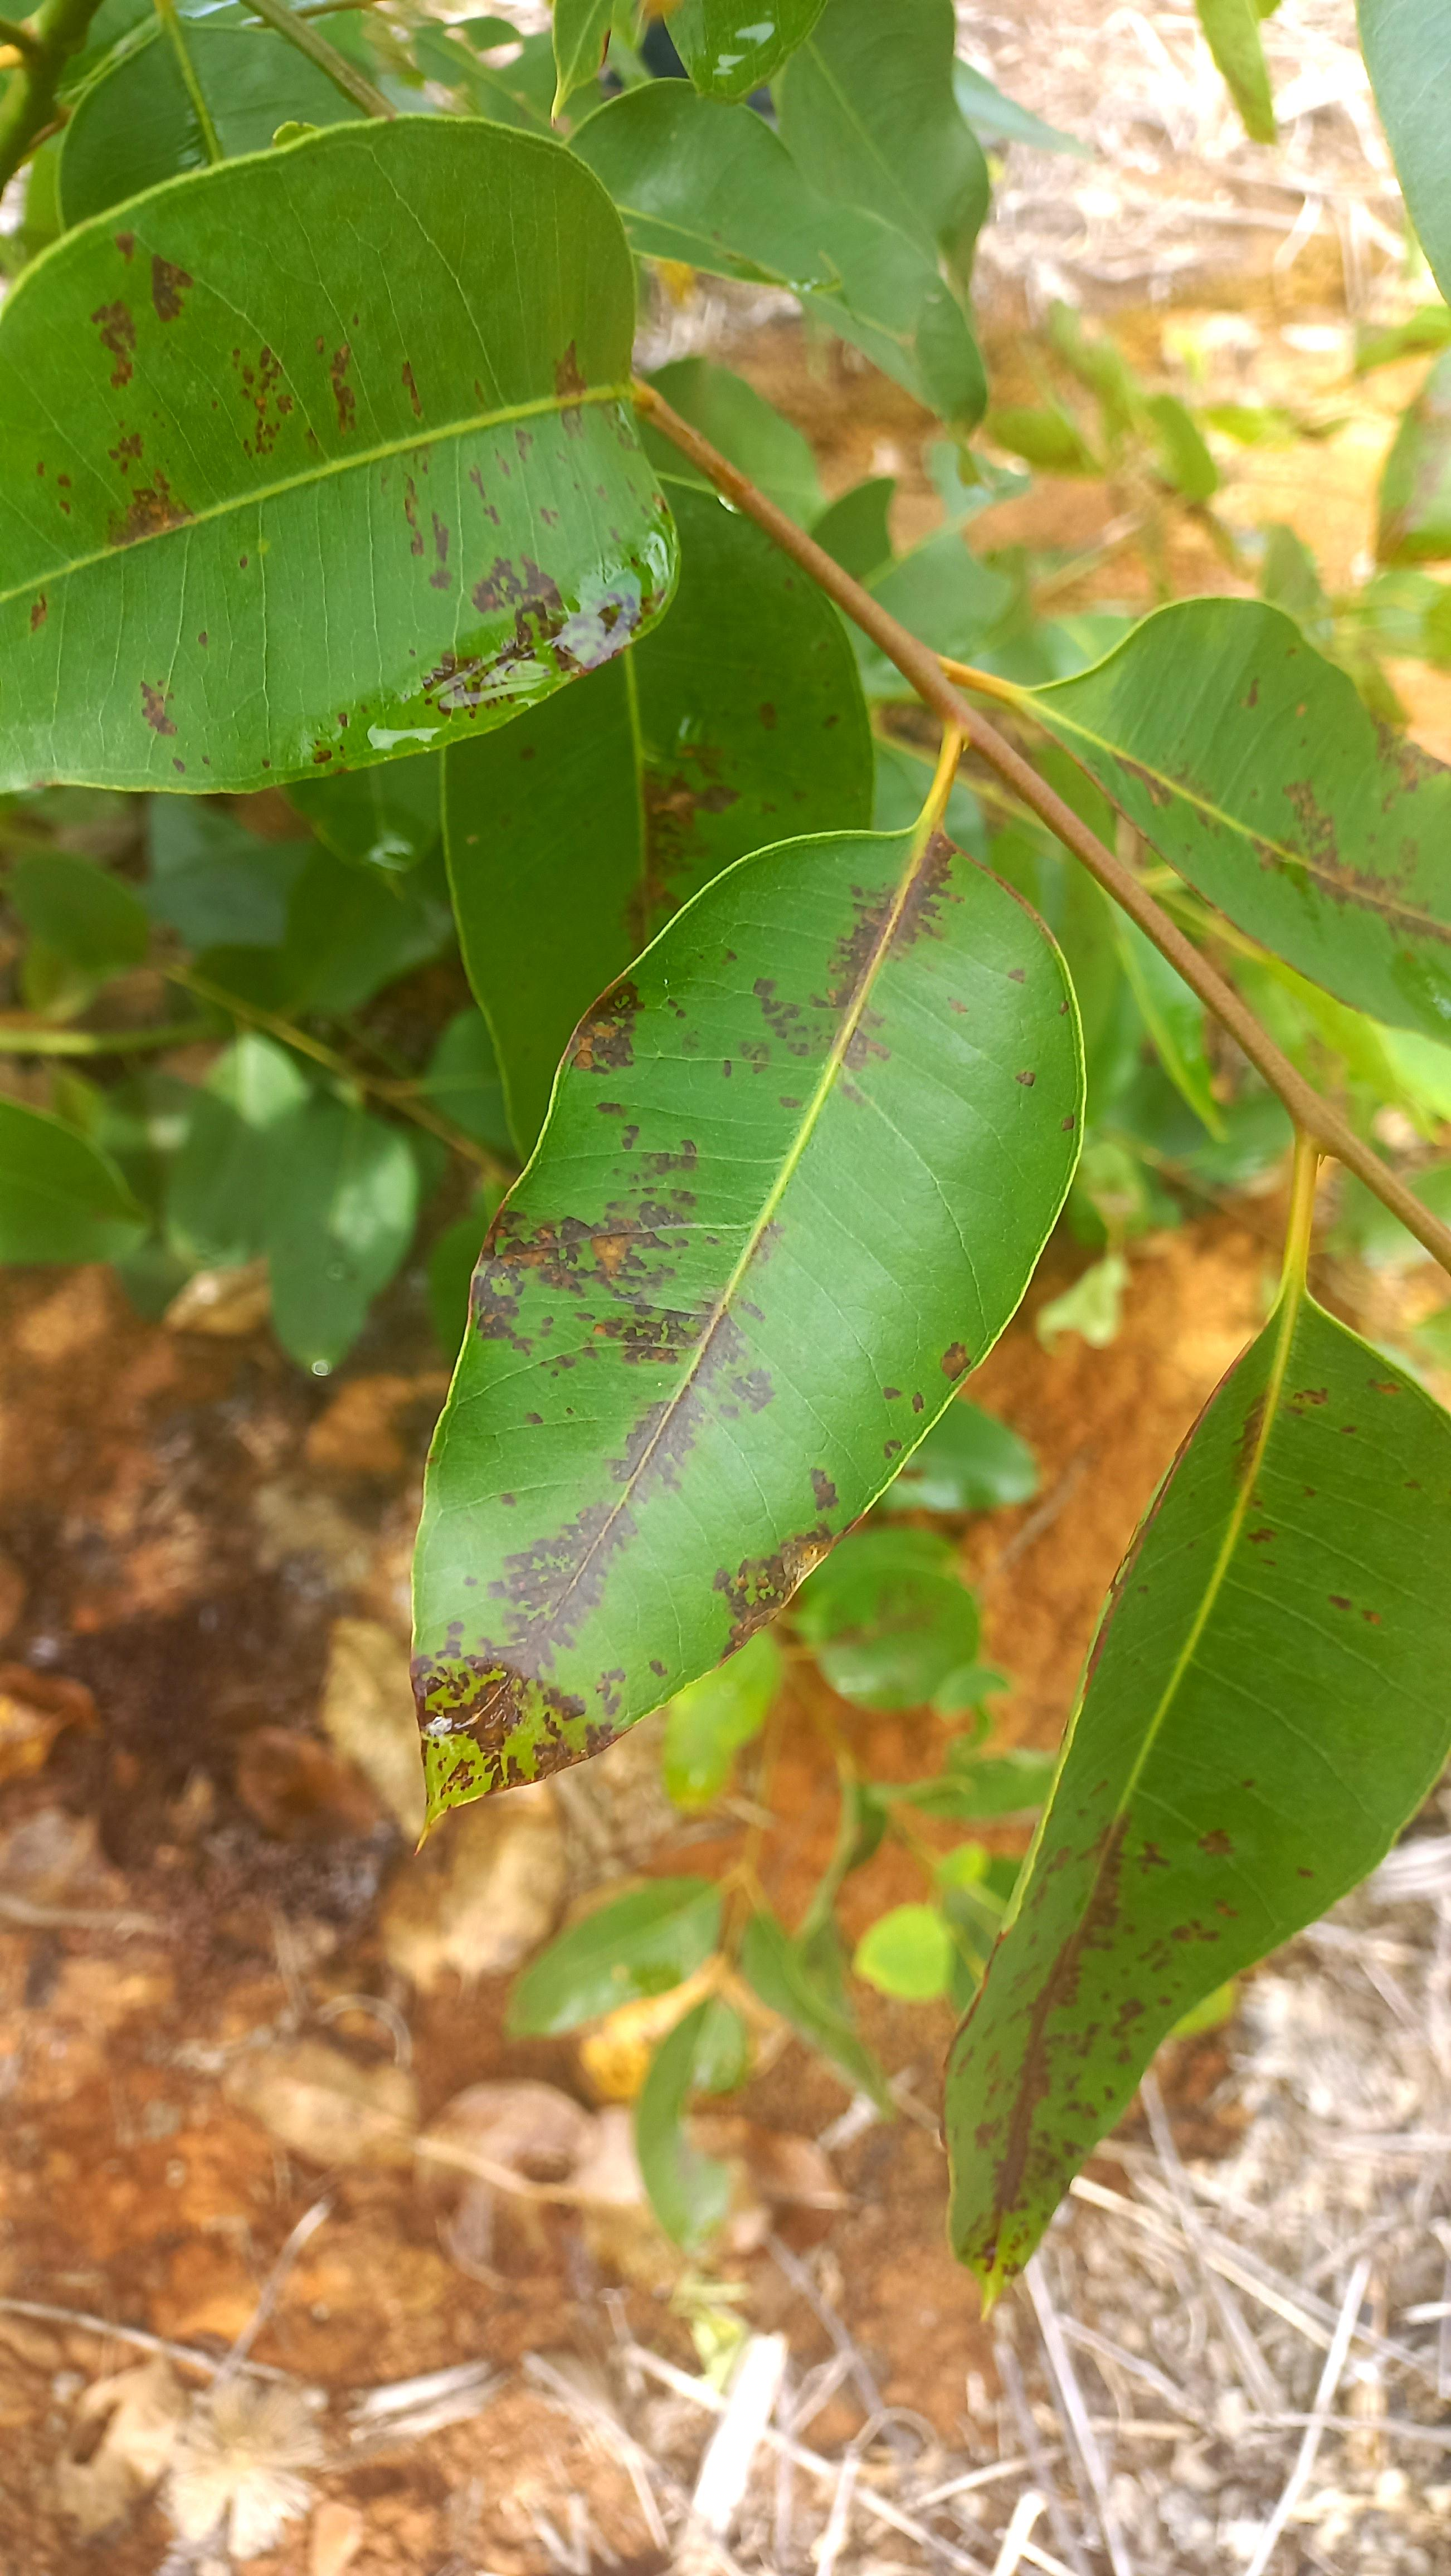Xanthomonas: (412, 832, 1115, 1849), (943, 1417, 1451, 2369), (0, 101, 676, 786), (1132, 580, 1451, 1016)
